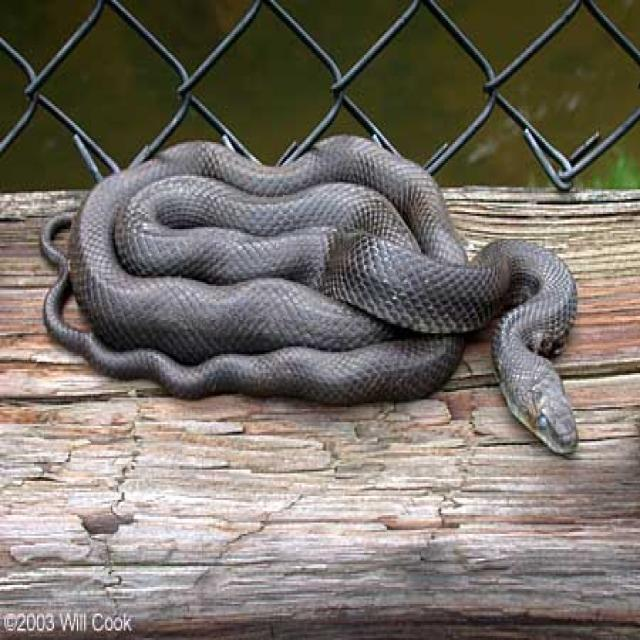Snake: (38, 130, 579, 457)
